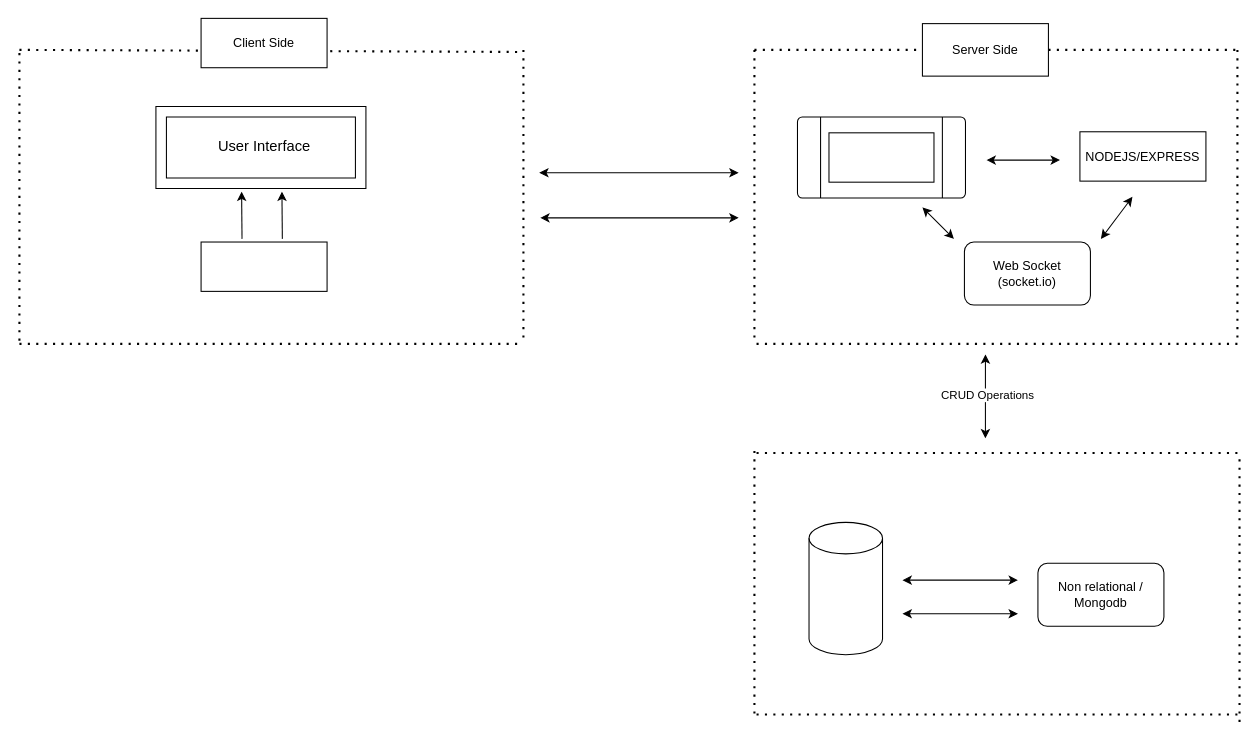
Image size: 1259x742. Some labels were removed from this diagram. The centre of each missing label's shape, as x and y in pixels:
Business Logic: (881,157)
Database: (845,588)
NEXTJS: (263,266)
